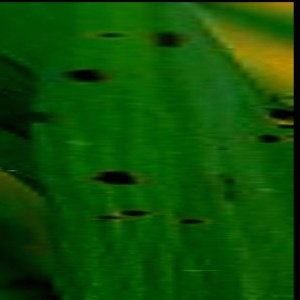Bacterial_Leaf_Blight: (84, 162, 146, 192), (54, 62, 113, 89), (146, 23, 190, 58), (83, 25, 138, 44), (246, 126, 287, 151), (28, 105, 55, 130), (118, 205, 154, 221), (173, 214, 216, 227), (256, 228, 278, 251), (220, 186, 244, 205), (94, 212, 125, 225), (210, 140, 232, 154), (221, 175, 239, 186), (50, 136, 62, 146)
